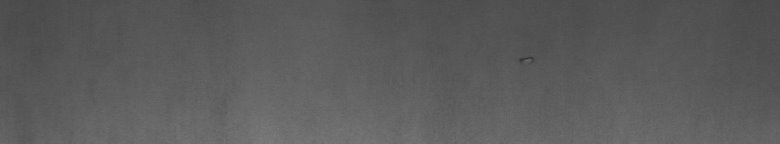fi: (518, 56, 535, 68)
